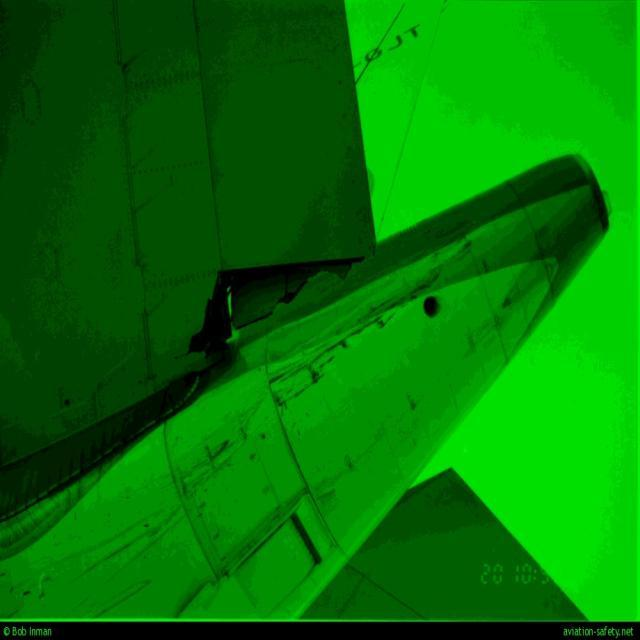crack: (169, 254, 364, 371)
